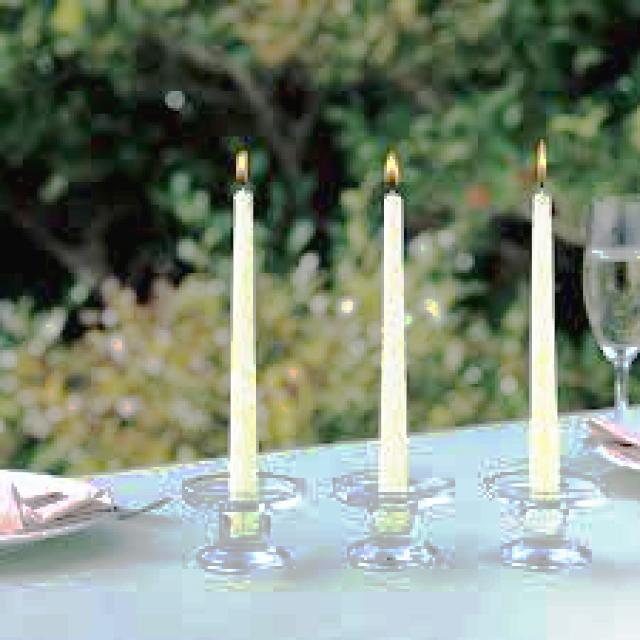api: (374, 149, 411, 194), (223, 146, 257, 192), (530, 132, 553, 191)
